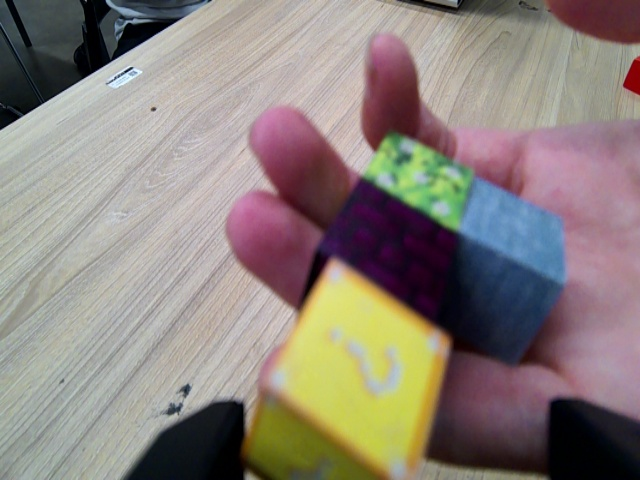brick: (299, 183, 454, 324)
grass: (356, 127, 470, 222)
lucky: (243, 259, 448, 476)
stone: (448, 179, 569, 359)
